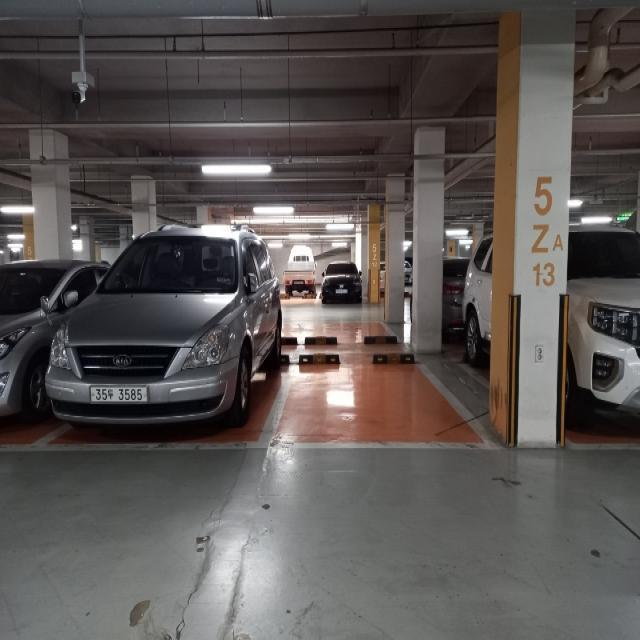Car: (53, 223, 276, 430)
Vacant: (262, 348, 472, 431)
